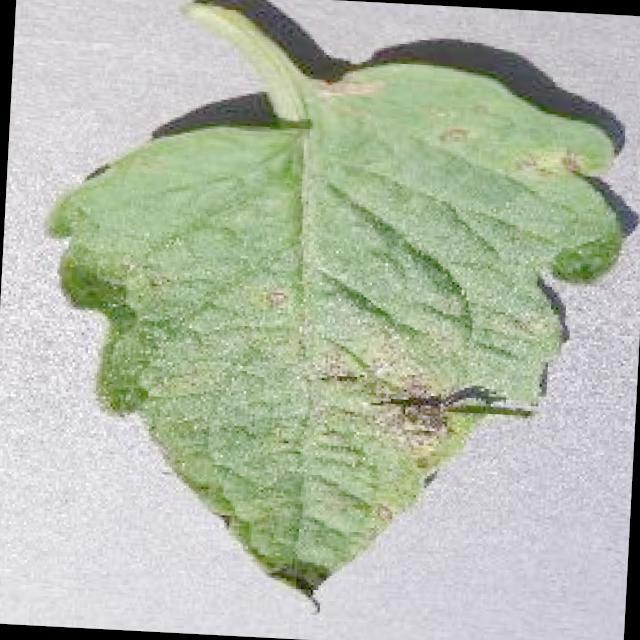Tomato Septoria spot leaf: (24, 42, 632, 626)
